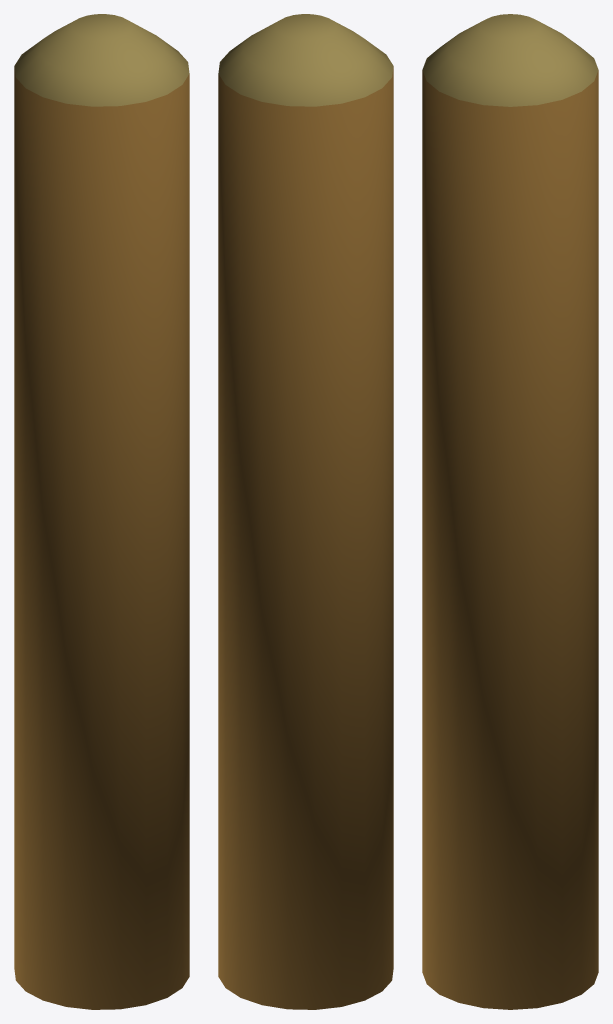
File: Poste.glb
3 views of the same model, side by side, from view 1: azimuth 30°, elevation 25°; view 2: azimuth 150°, elevation 25°; view 3: azimuth 270°, elevation 25° (orthographic).
Visible parts, largest first — view 1: Poste.001; view 2: Poste.001; view 3: Poste.001.
Boxes of the visible parts, <box> form: Poste.001: <box>14,14,189,1009</box>; Poste.001: <box>218,14,393,1009</box>; Poste.001: <box>422,14,598,1009</box>.
Bounding box in the file's own units: 0.2258 × 1.34 × 0.2258.
